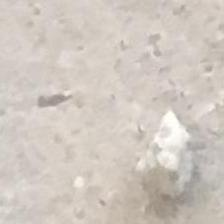Non_Crack: (15, 25, 211, 186)
